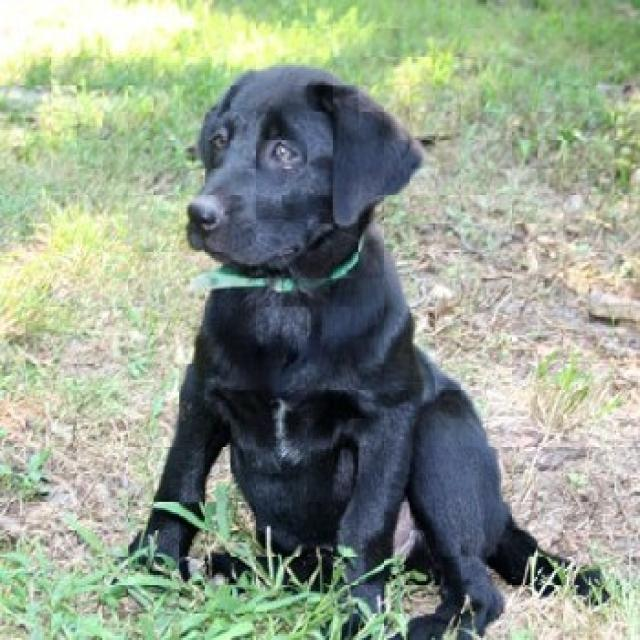Dogs: (122, 61, 614, 638)
